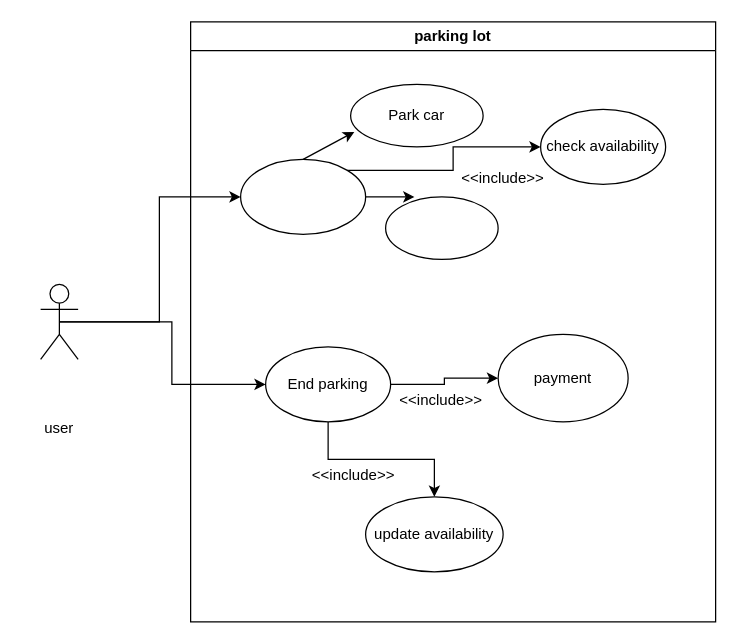
This 738x644 diagram has some shape labels left out. Each missing label, with the centre of its shape:
"Actor" belongs at point 58,321.
"Par buses" belongs at point 441,227.
"park vehicle" belongs at point 302,196.
